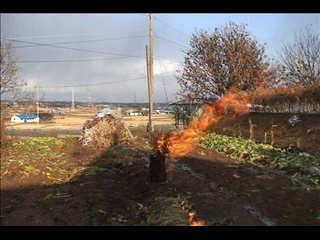fire: (155, 112, 202, 158), (202, 85, 248, 127), (179, 196, 212, 226)
